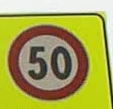limite 50: (4, 21, 89, 100)
